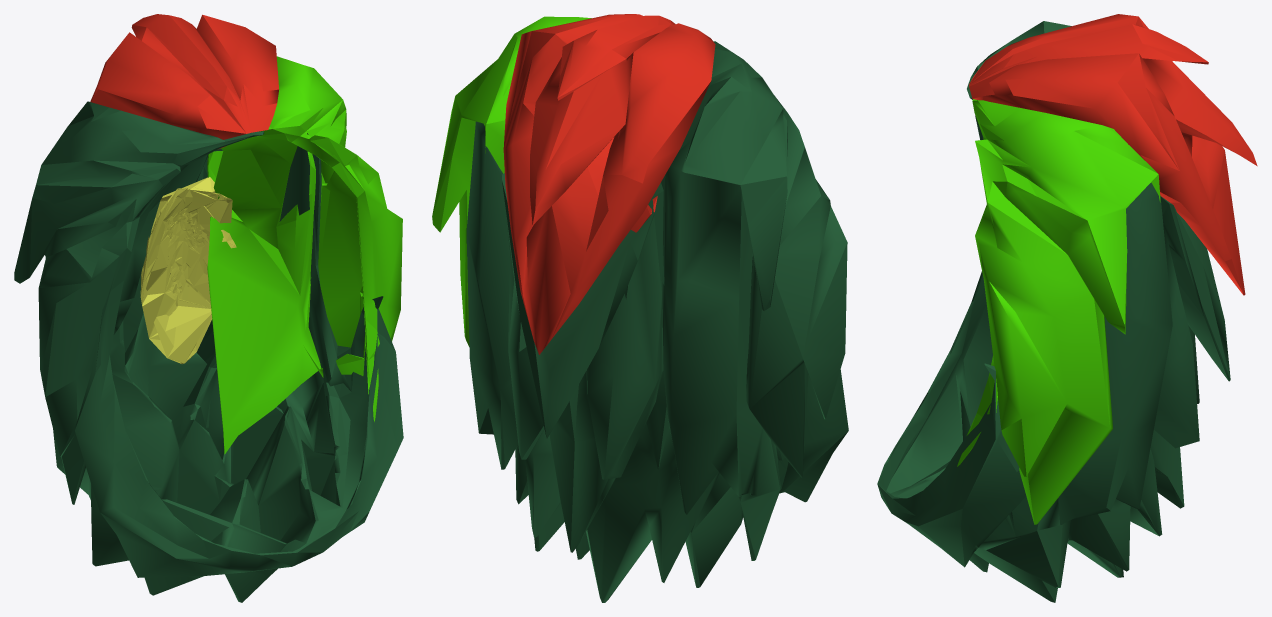
File: CombBack.fbx
3 views of the same model, side by side, from view 1: azimuth 30°, elevation 25°; view 2: azimuth 150°, elevation 25°; view 3: azimuth 270°, elevation 25° (orthographic). The views are drawn at different scales.
Visible parts, largest first — view 1: Hair; view 2: Hair; view 3: Hair.
Part boxes in pixels (box(x1,y1,x2,y2)): Hair: box(14, 14, 403, 602); Hair: box(432, 14, 848, 602); Hair: box(877, 14, 1257, 602).
Size of the model in its own units: 23.26 by 33.79 by 21.05.
